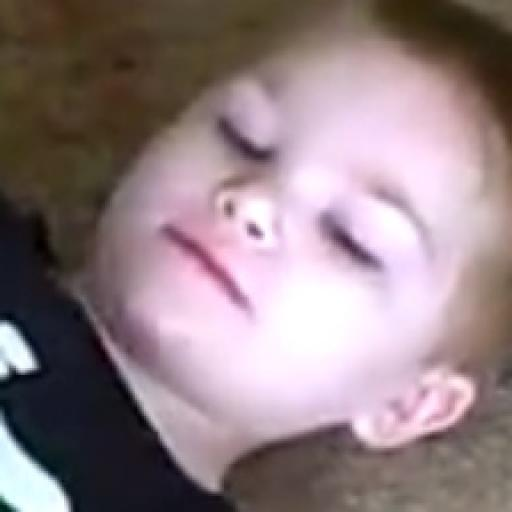Autism: (91, 7, 512, 446)
